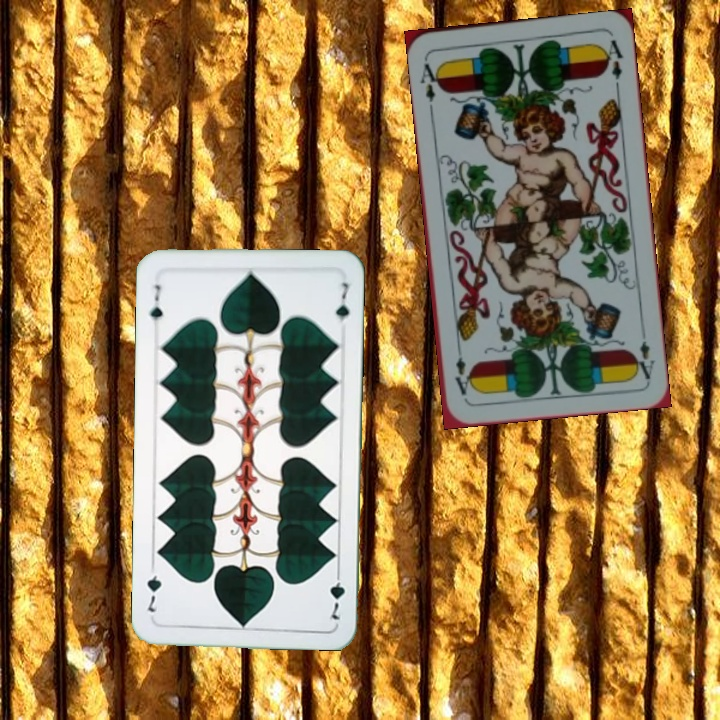EA: (416, 59, 444, 105), (630, 336, 657, 382)
G7: (325, 565, 348, 622), (145, 280, 165, 323)
